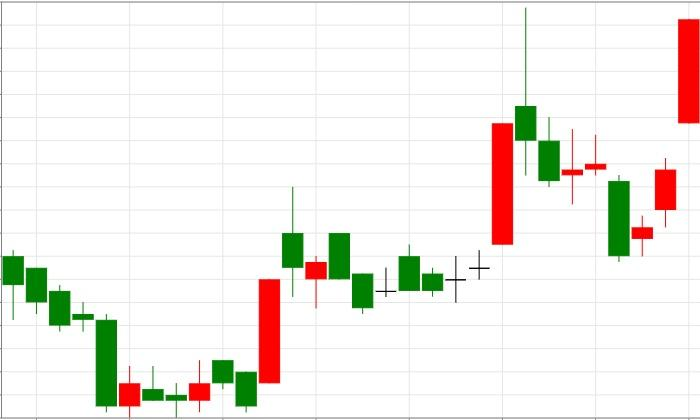shooting_star_fall: (352, 7, 537, 314)
